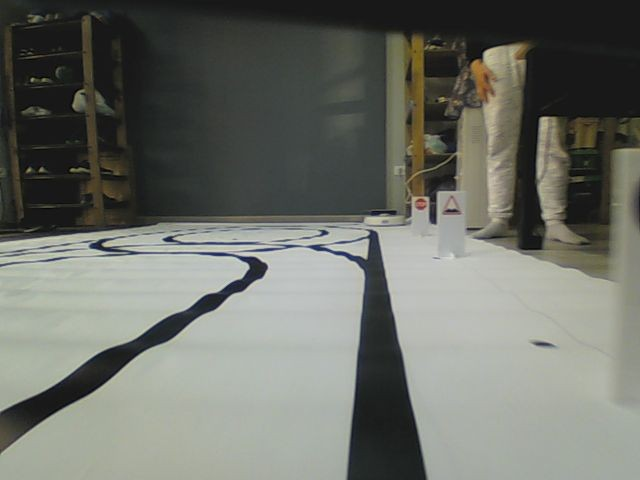Nerov: (441, 194, 462, 216)
